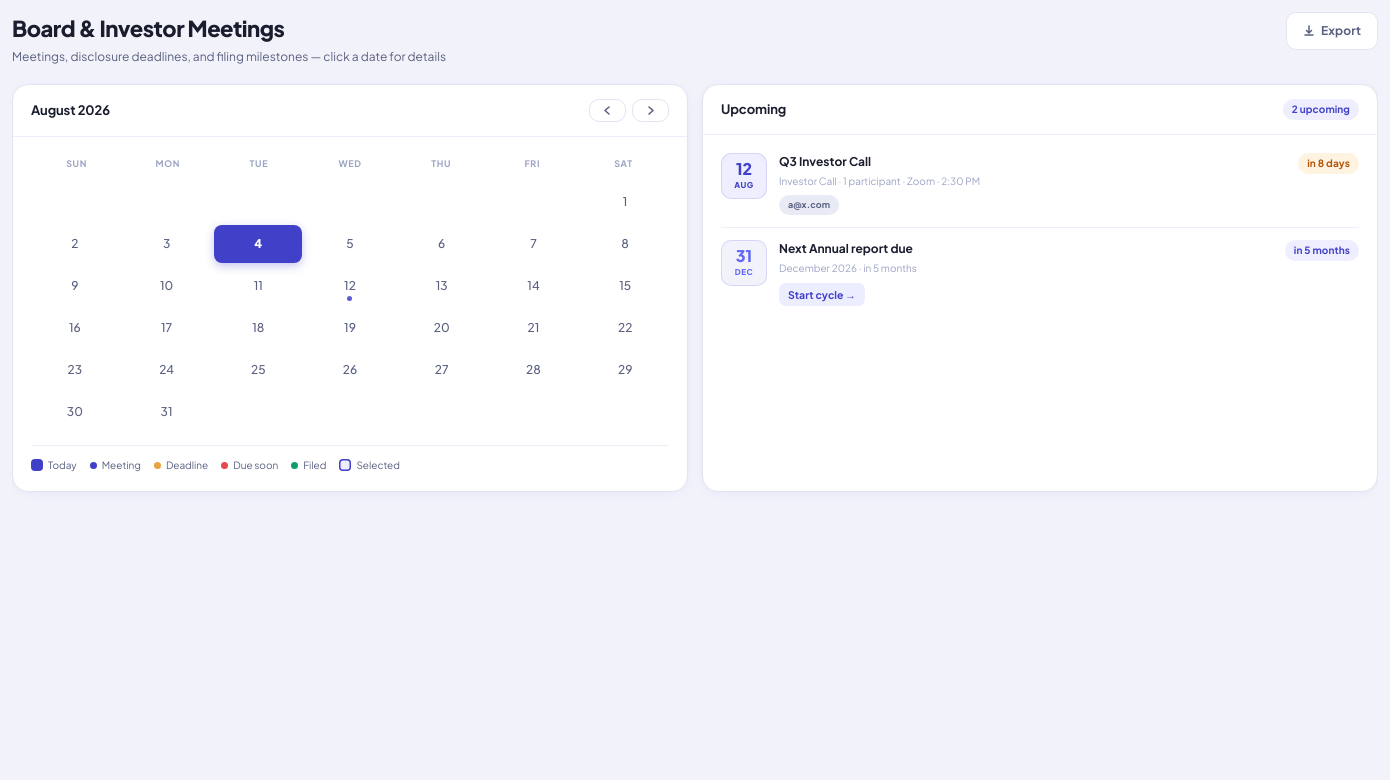
Test: Board & Meetings — merged calendar › shows both layers on the selected-day panel, and only meetings are clickable
This screenshot has width=1390, height=780.
Check: the text "Q3 Investor Call" is shown, box [779,153,871,171]
// 12 Aug 2026 holds the meeting
Click the button "12" at (350, 286), box [306,266,394,304]
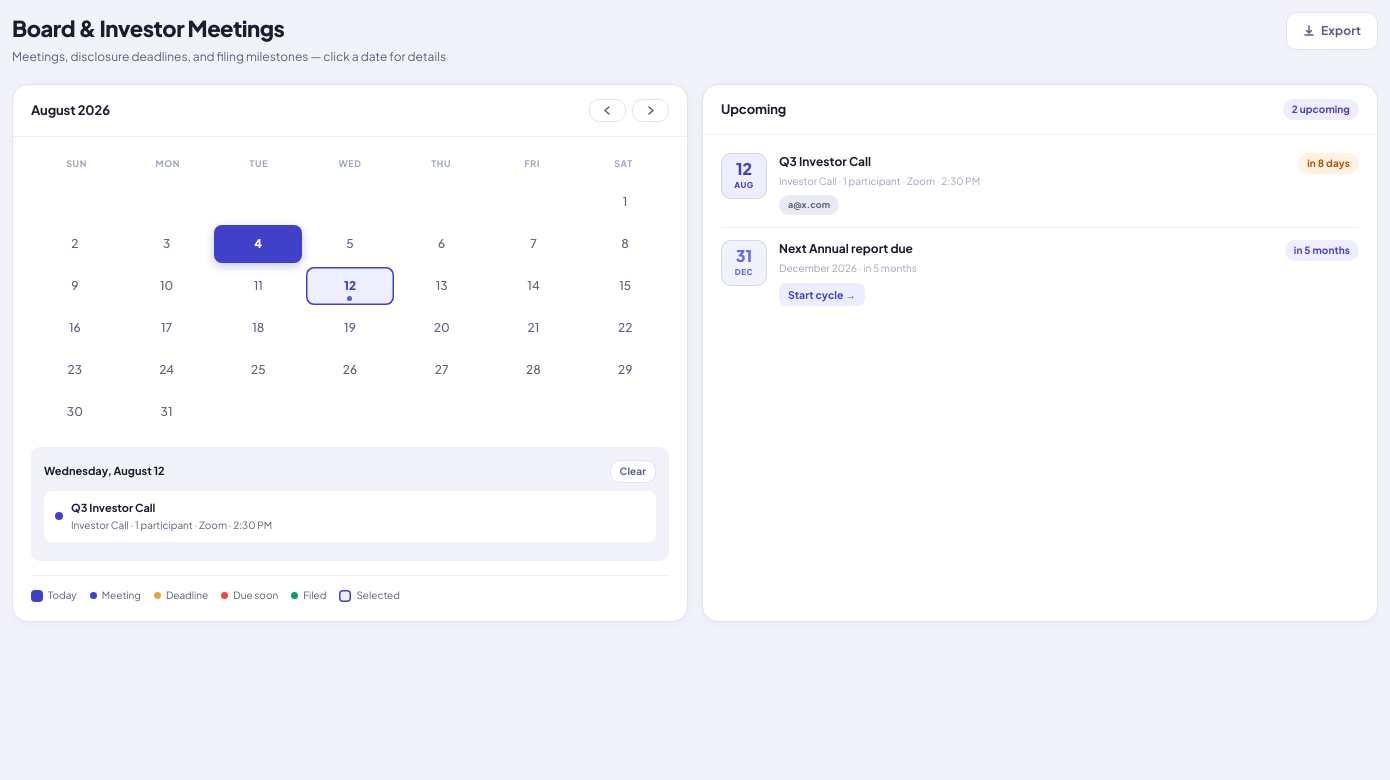
Check: the text "Wednesday, August 12" is shown, box [44,463,165,479]
